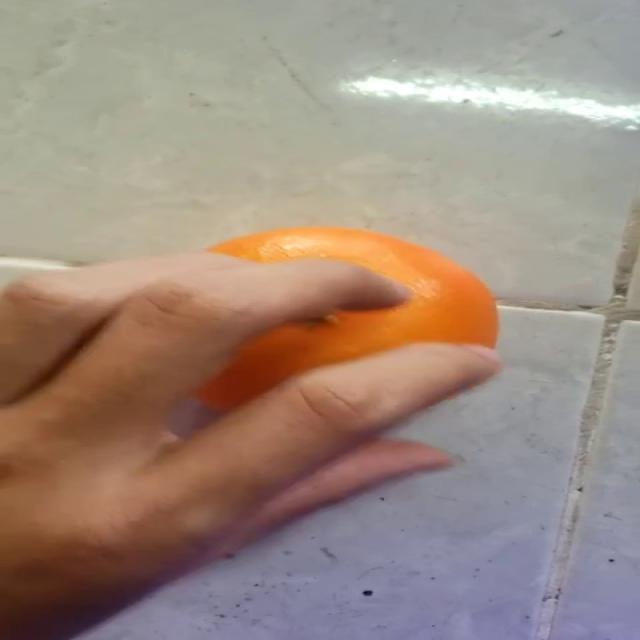Orange: (192, 223, 499, 413)
